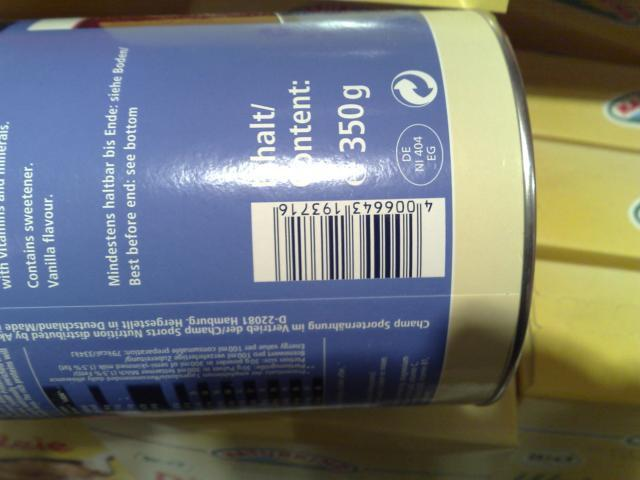Barcode: (265, 198, 438, 282)
